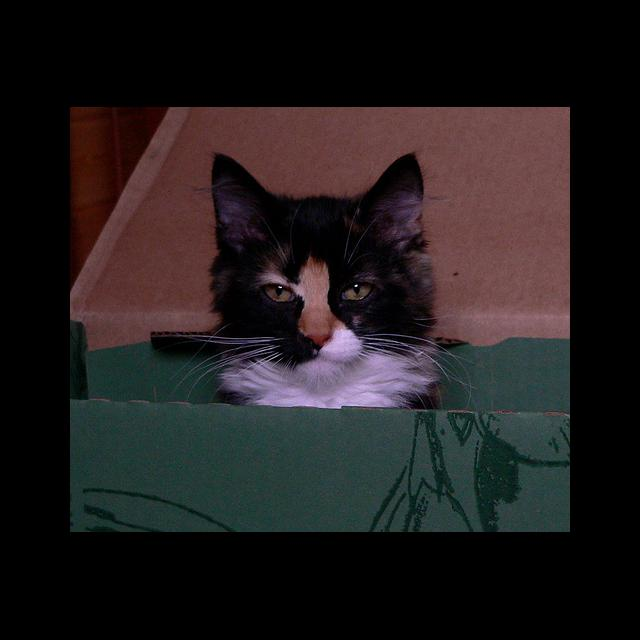animals: (217, 152, 421, 348)
